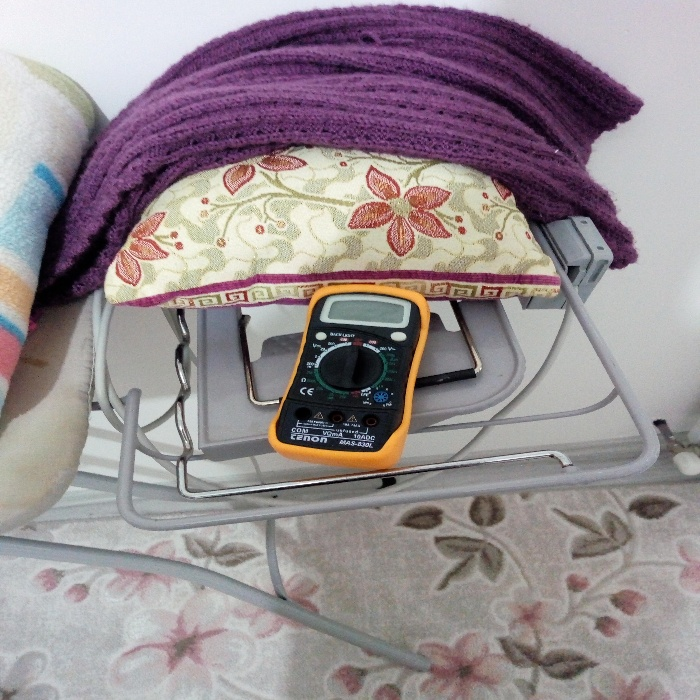multimetre: (266, 266, 439, 465)
